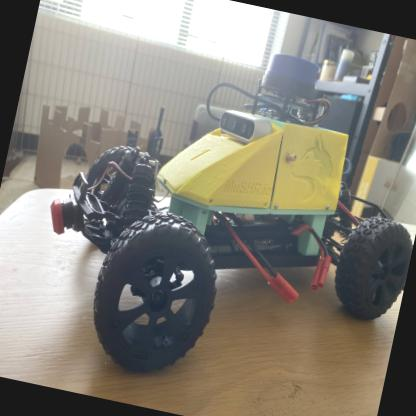mushr_car: (14, 2, 415, 415)
